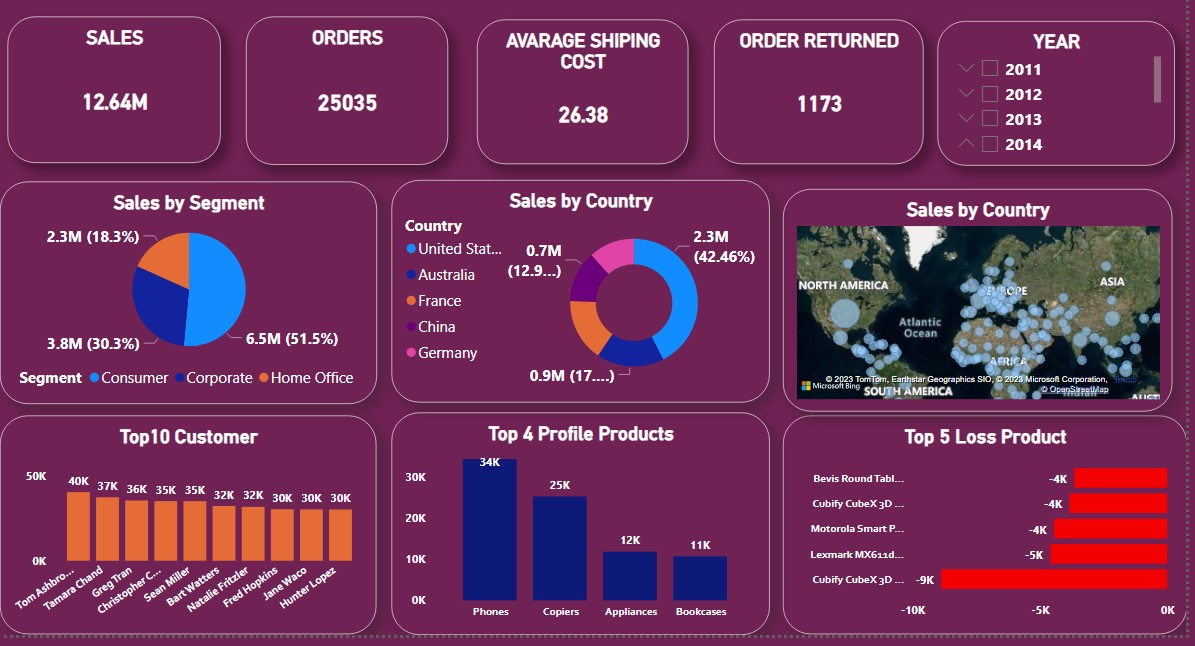

This screenshot's page, from the dashboard's own definition file:
{"tool":"powerbi","page":{"name":"Page 1","canvas":[1280,720],"ordinal":0},"visuals":[{"type":"card","title":"SALES","fields":{"Values":["Orders.Sales"]},"box":[8.7,54,230,158],"z":0},{"type":"card","title":"AVARAGE SHIPING COST","fields":{"Values":["Orders.Shipping Cost"]},"box":[514.7,56,228,156],"z":1000},{"type":"card","title":"ORDER RETURNED","fields":{"Values":["Returns.Order ID"]},"box":[770.7,56,226,156],"z":2000},{"type":"pieChart","title":"Sales by Segment","fields":{"Category":["Orders.Segment"],"Y":["Orders.Sales"]},"box":[0,230.7,406.5,240.1],"z":3000},{"type":"columnChart","title":"Top10 Customer ","fields":{"Y":["Orders.Sales"],"Category":["Orders.Customer Name"]},"box":[0,484,406,236],"z":4000},{"type":"donutChart","title":"Sales by Country","fields":{"Y":["Orders.Sales"],"Category":["Orders.Country"]},"box":[422,230,408,240],"z":5000},{"type":"barChart","title":"Top 5 Loss Product","fields":{"Y":["Orders.Profit"],"Category":["Orders.Product Name"]},"box":[844,484,436,236],"z":6000},{"type":"columnChart","title":"Top 4 Profile Products","fields":{"Category":["Orders.Sub-Category"],"Y":["Orders.Profit"]},"box":[422,480,408,240],"z":7000},{"type":"map","title":"Sales by Country","fields":{"Category":["Orders.Country"],"Size":["Orders.Sales"]},"box":[844,240,420,240],"z":8000},{"type":"slicer","title":"YEAR","fields":{"Values":["Orders.Order Date.Variation.Date Hierarchy.Year","Orders.Order Date.Variation.Date Hierarchy.Quarter","Orders.Order Date.Variation.Date Hierarchy.Month","Orders.Order Date.Variation.Date Hierarchy.Day"]},"box":[1010.7,58,256,156],"z":9000},{"type":"card","title":"ORDERS","fields":{"Values":["Orders.Order ID"]},"box":[264.7,54,218,160],"z":10000}]}

Visuals, with their boxes on the page's 1280x720 design canvas (x1, y1, x2, y2). These are canvas units, not pixel positions in the 1195x646 screenshot, which may show the page scaled, cropped or inside an application window:
"SALES" card: (9,54,239,212)
"AVARAGE SHIPING COST" card: (515,56,743,212)
"ORDER RETURNED" card: (771,56,997,212)
"Sales by Segment" pieChart: (0,231,406,471)
"Top10 Customer " columnChart: (0,484,406,720)
"Sales by Country" donutChart: (422,230,830,470)
"Top 5 Loss Product" barChart: (844,484,1280,720)
"Top 4 Profile Products" columnChart: (422,480,830,720)
"Sales by Country" map: (844,240,1264,480)
"YEAR" slicer: (1011,58,1267,214)
"ORDERS" card: (265,54,483,214)
